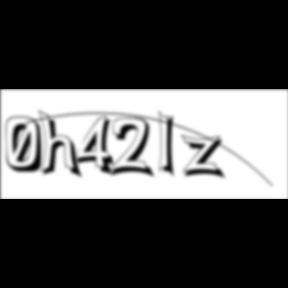0: (6, 115, 50, 174)
2: (108, 117, 158, 181)
4: (74, 115, 120, 179)
h: (39, 108, 86, 182)
l: (158, 108, 182, 182)
z: (180, 134, 230, 182)
